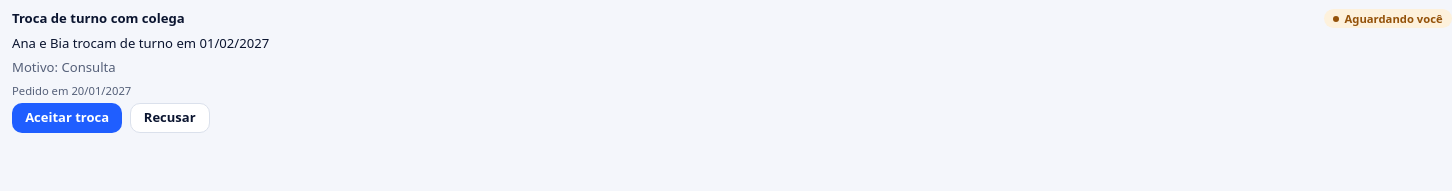
it: ListaPedidos › para mim: aceitar ou recusar a troca, com erro visível
Later steps or results of the test are not shown.
Check: the text "Aguardando você" is shown, box [1324, 9, 1451, 28]
Click the button with aria-label "Aceitar a troca de Ana".
click(67, 118)  # box [12, 103, 122, 133]
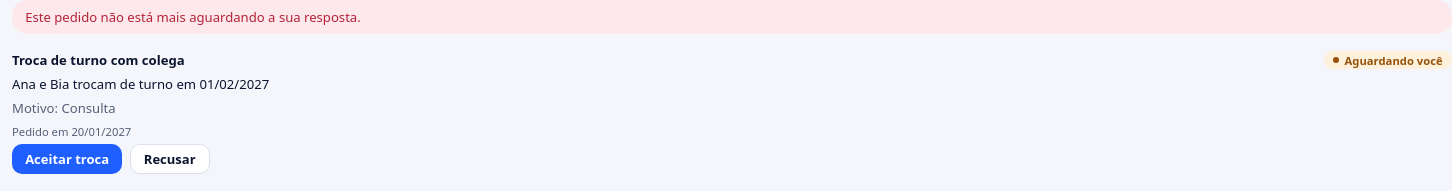
Check: the button with aria-label "Recusar a troca de Ana" is enabled, box [130, 144, 210, 174]
Check: the text "Este pedido não está mais aguardando a sua resposta." is shown, box [12, 0, 1451, 34]
